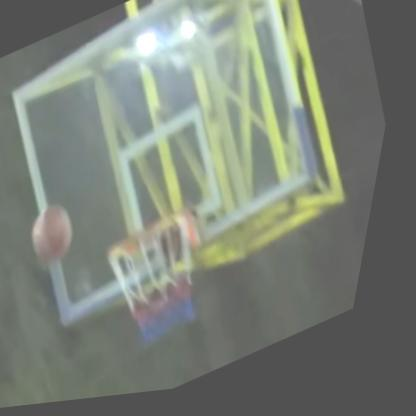basketball: (16, 192, 101, 283)
rim: (85, 197, 247, 377)
